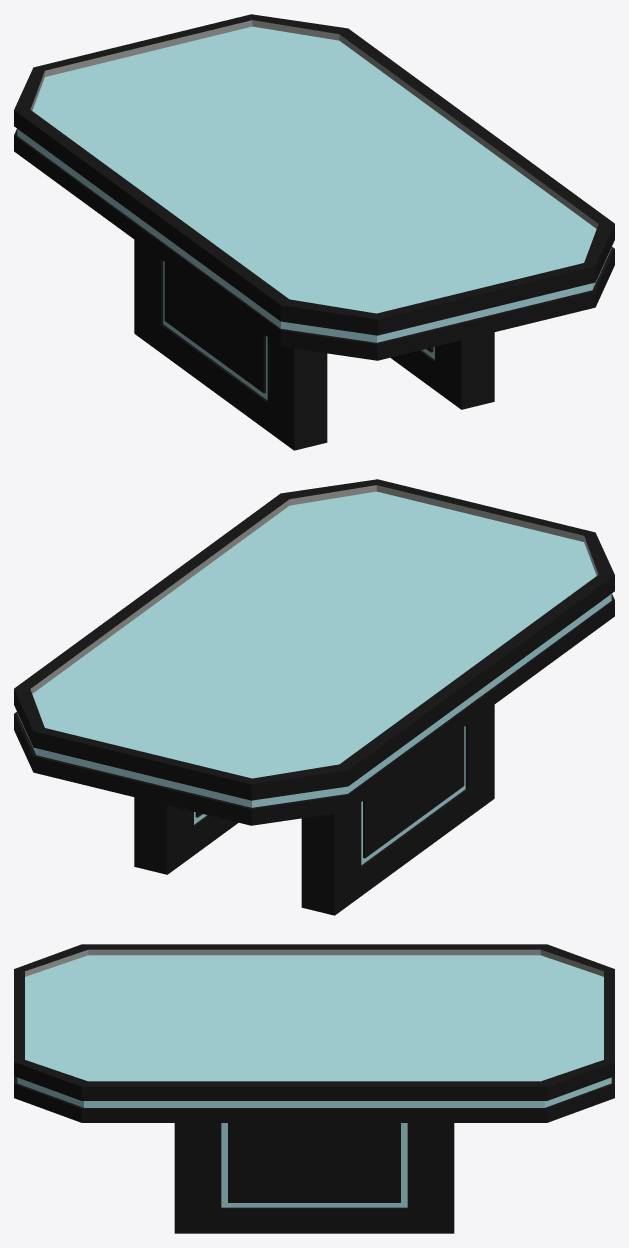
Rendered from table.fbx.
3 renders of one model, top to bottom at view 1: azimuth 30°, elevation 25°; view 2: azimuth 150°, elevation 25°; view 3: azimuth 270°, elevation 25°, orthographic. The views are drawn at different scales.
Parts seen in each view (by area): view 1: table; view 2: table; view 3: table.
Part boxes in pixels (box(x1,y1,x2,y2)): table: box(14, 14, 614, 450); table: box(14, 479, 614, 915); table: box(14, 944, 614, 1233).
Size of the model in its own units: 1.4 by 2.5 by 0.8037.
